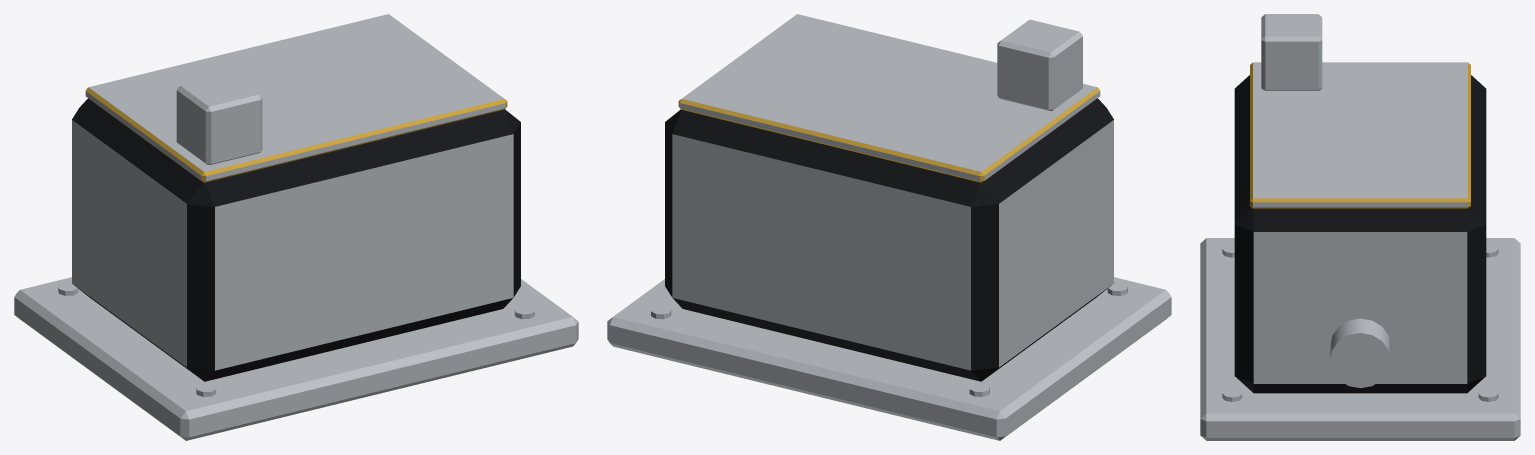
File: inst_fluxgate_mag.glb
The picture shows the model from 3 angles, left to right: view 1: azimuth 30°, elevation 25°; view 2: azimuth 150°, elevation 25°; view 3: azimuth 270°, elevation 25°; orthographic projection. The views are drawn at different scales.
Parts seen in each view (by area): view 1: fluxgate_sensor_head; view 2: fluxgate_sensor_head; view 3: fluxgate_sensor_head.
Part boxes in pixels (x1,y1,x2,y2): fluxgate_sensor_head: [14, 14, 578, 440]; fluxgate_sensor_head: [607, 14, 1171, 440]; fluxgate_sensor_head: [1200, 14, 1520, 440].
Bounding box in the file's own units: 0.056 × 0.04 × 0.042.
